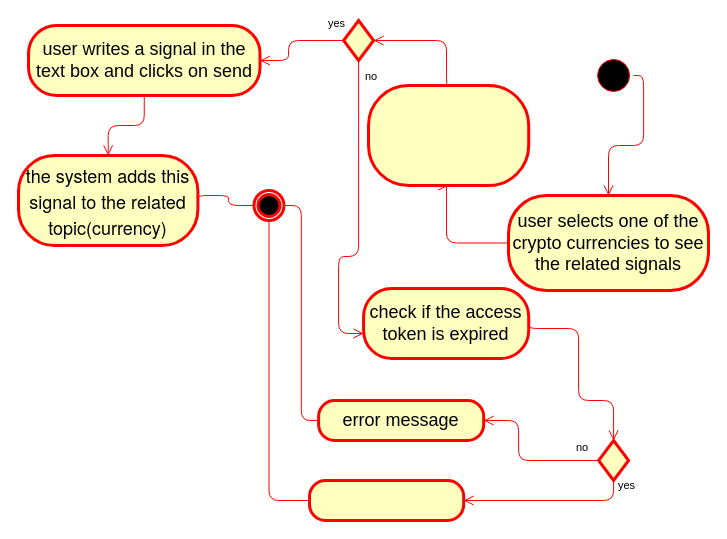
Some shapes in this 727 by 539 pixel diagram are drawn without their labels. Here are the shapes that lost their labels. From the top down, the box of each, then its label:
(366, 84, 530, 186): checks if the credentials of user exists or are valid
(308, 478, 465, 522): need refresh
